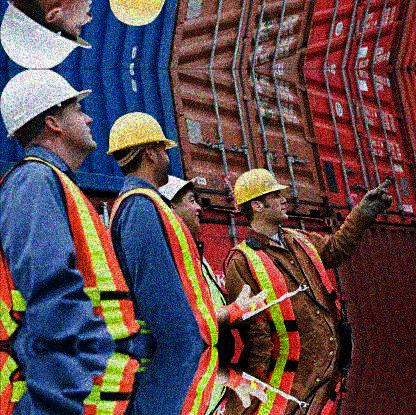helmet: (1, 70, 100, 156), (106, 112, 178, 189), (233, 168, 288, 239), (156, 176, 202, 232)
